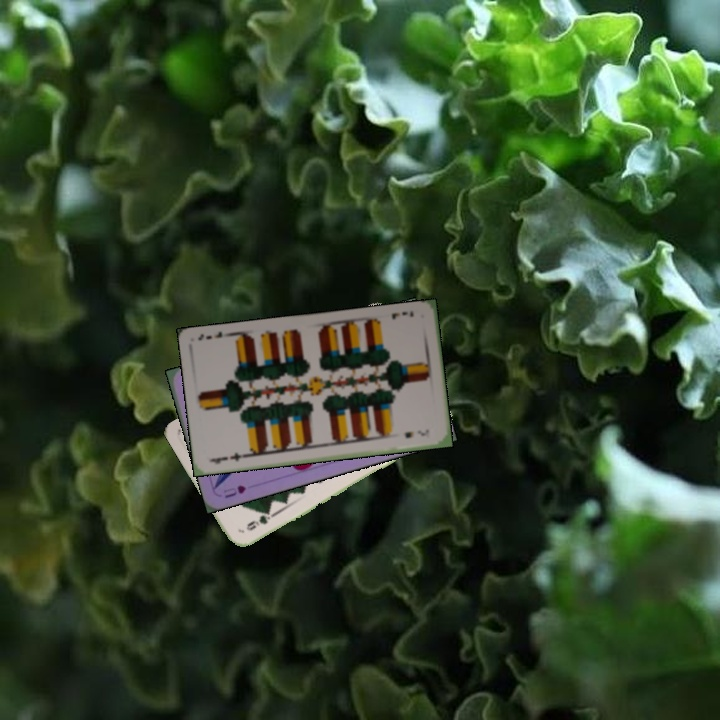E7: (207, 449, 248, 466), (388, 307, 416, 322)
G9: (242, 507, 276, 533)
HU: (219, 481, 249, 501)
